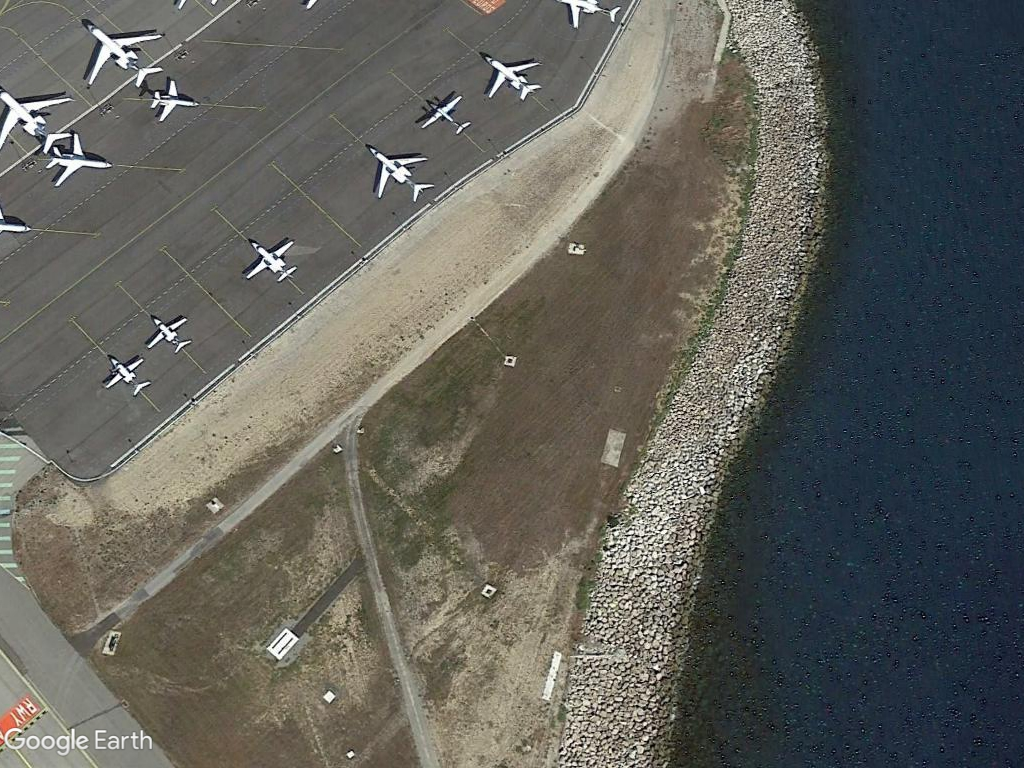chartered: (362, 138, 437, 207), (242, 234, 304, 289)
